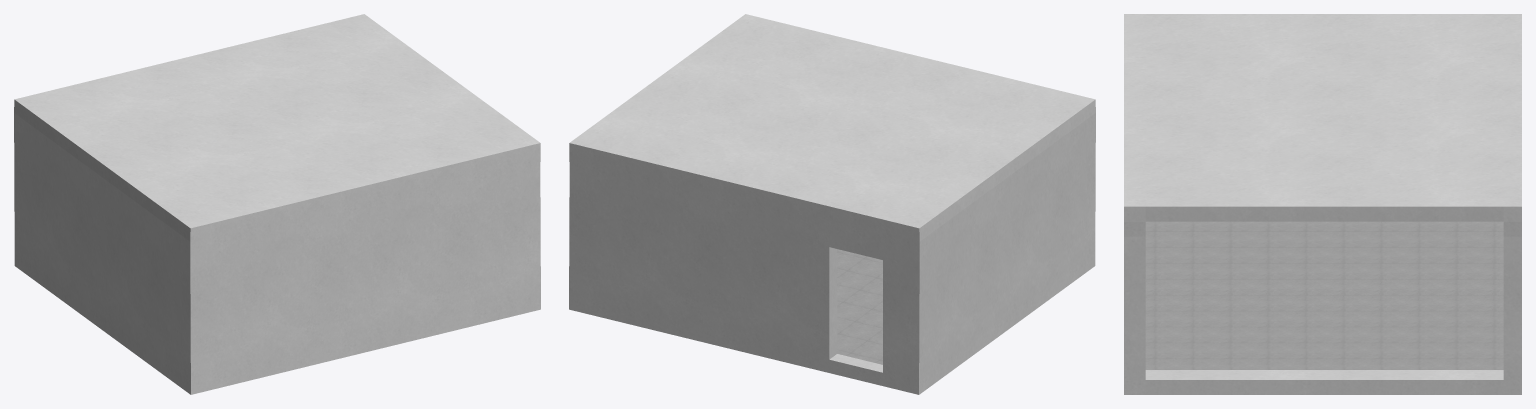
File: room.FBX
3 views of the same model, side by side, from view 1: azimuth 30°, elevation 25°; view 2: azimuth 150°, elevation 25°; view 3: azimuth 270°, elevation 25° (orthographic). The views are drawn at different scales.
Visible parts, largest first — view 1: Box001; view 2: Box001; view 3: Box001.
Part boxes in pixels (x1,y1,x2,y2): Box001: [14, 14, 540, 394]; Box001: [569, 14, 1095, 394]; Box001: [1124, 14, 1521, 394].
Bounding box in the file's own units: 1726 × 784 × 1502.
